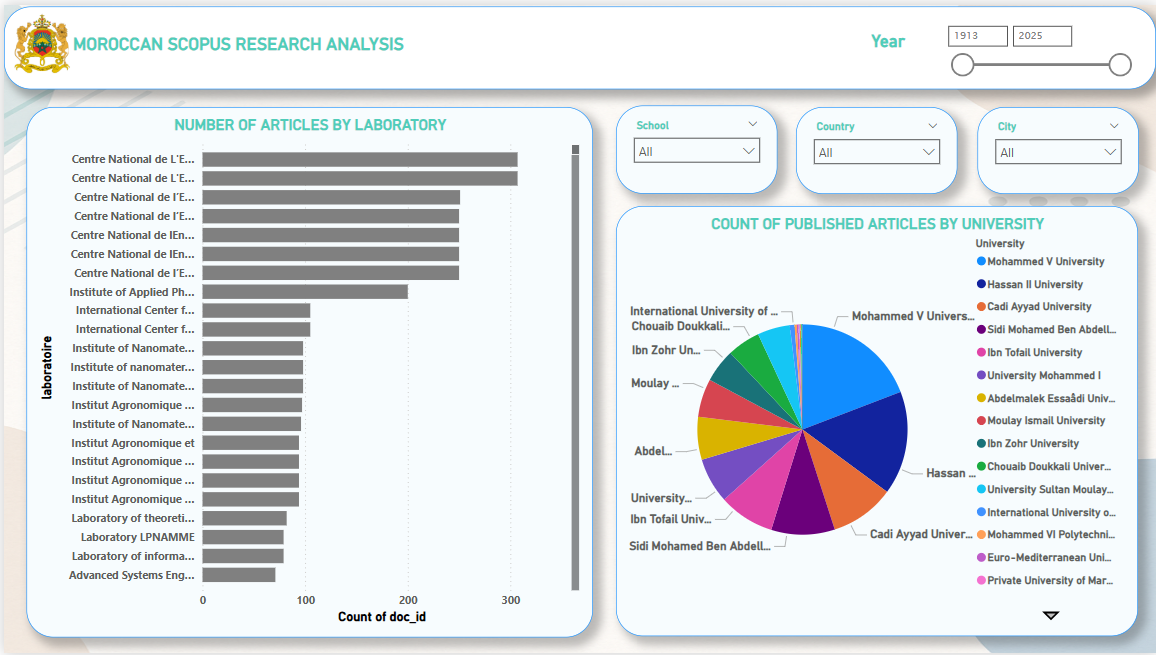

The page's visual inventory and layout, read from the dashboard file:
{"tool":"powerbi","page":{"name":"Dashboard2","canvas":[1280,720],"ordinal":1},"visuals":[{"type":"slicer","fields":{"Values":["Affiliation.city"]},"box":[1081,113.4,179.5,96.4],"z":0},{"type":"slicer","fields":{"Values":["Affiliation.country"]},"box":[880.6,113.4,179.5,96.4],"z":1000},{"type":"slicer","fields":{"Values":["Affiliation.school"]},"box":[680.3,111.5,179.5,98.3],"z":2000},{"type":"barChart","title":" NUMBER OF ARTICLES BY LABORATORY","fields":{"Category":["Affiliation.laboratoire"],"Y":["CountNonNull(Metadata.doc_id)"]},"box":[24.6,113.4,629.3,589.6],"z":3000},{"type":"pieChart","title":"COUNT OF PUBLISHED ARTICLES BY UNIVERSITY","fields":{"Category":["Affiliation.university"],"Y":["CountNonNull(Metadata.doc_id)"]},"box":[680,224,580,478],"z":4000},{"type":"textbox","box":[0,2,1280,92],"z":5000},{"type":"image","box":[0,0,84.5,84.5],"z":6000},{"type":"textbox","box":[71.8,26.5,393.1,41.6],"z":7000},{"type":"textbox","box":[958,24,68,34.7],"z":8000},{"type":"slicer","fields":{"Values":["Metadata.year"]},"box":[1026,3.3,244,86.7],"z":9000}]}

Visuals, with their boxes in screenshot pixels (x1, y1, x2, y2), scaled from the page's 1280x720 canvas onto the 1156x655 screenshot:
slicer - Affiliation.city: locate(976, 103, 1138, 191)
slicer - Affiliation.country: locate(795, 103, 957, 191)
slicer - Affiliation.school: locate(614, 101, 777, 191)
" NUMBER OF ARTICLES BY LABORATORY" barChart: locate(22, 103, 591, 640)
"COUNT OF PUBLISHED ARTICLES BY UNIVERSITY" pieChart: locate(614, 204, 1138, 639)
textbox: locate(0, 2, 1155, 86)
image: locate(0, 0, 76, 77)
textbox: locate(65, 24, 420, 62)
textbox: locate(865, 22, 927, 53)
slicer - Metadata.year: locate(927, 3, 1147, 82)
